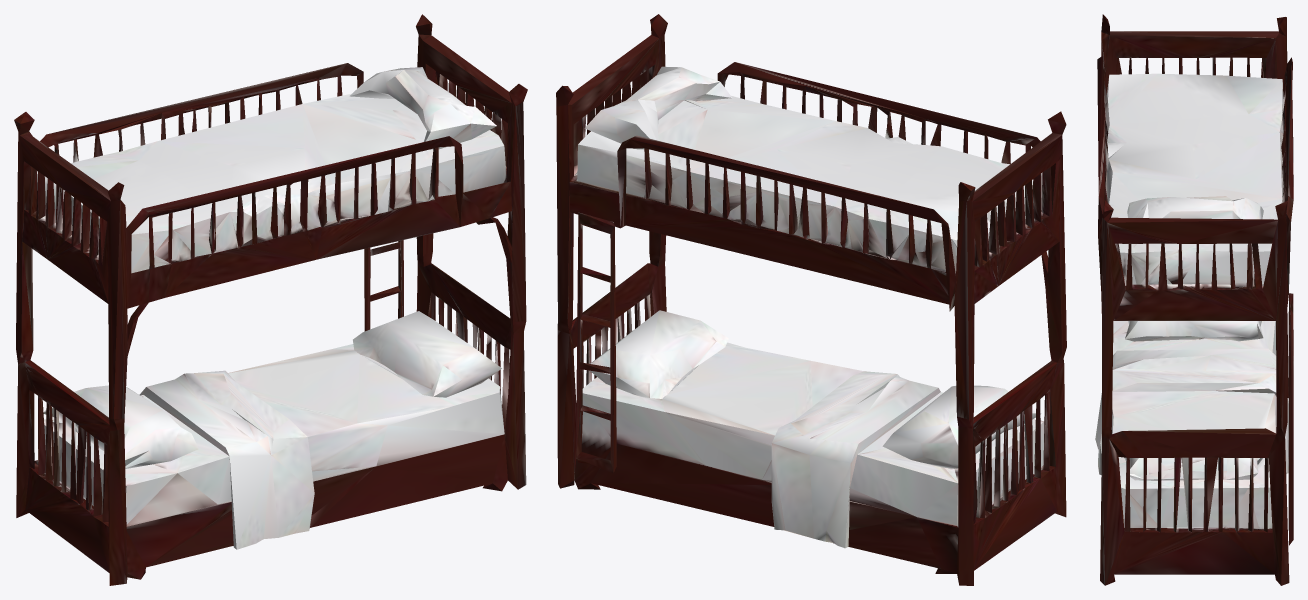
File: mj-berth-mahogany-2nd.lod1.glb
3 renders of one model, left to right at view 1: azimuth 30°, elevation 25°; view 2: azimuth 150°, elevation 25°; view 3: azimuth 270°, elevation 25°, orthographic. The views are drawn at different scales.
Visible parts, largest first — view 1: mj-berth-mahogany-2nd; view 2: mj-berth-mahogany-2nd; view 3: mj-berth-mahogany-2nd.
Part boxes in pixels (bbox=[...]): mj-berth-mahogany-2nd: bbox=[14, 14, 527, 585]; mj-berth-mahogany-2nd: bbox=[556, 14, 1066, 585]; mj-berth-mahogany-2nd: bbox=[1095, 14, 1293, 585].
Bounding box in the file's own units: 1.95 × 1.8 × 0.8455.
Materials: 1 (1 with a texture image).
